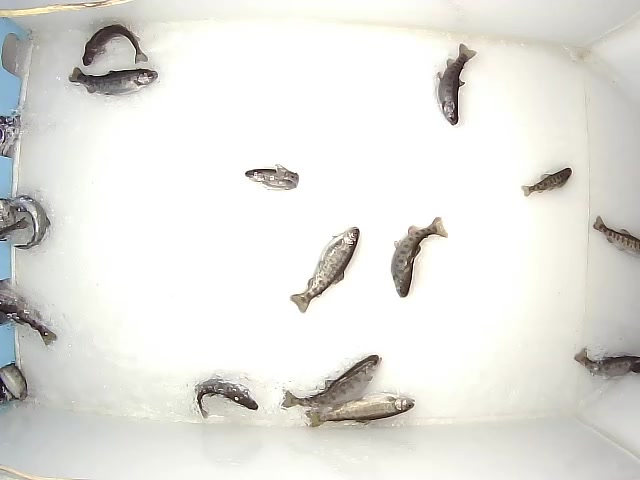fish: (288, 219, 367, 314), (280, 353, 380, 413), (388, 215, 459, 299), (299, 394, 418, 431), (433, 40, 478, 125), (77, 23, 152, 73), (67, 64, 161, 96), (8, 195, 53, 254), (193, 379, 260, 418), (519, 164, 574, 200), (245, 164, 305, 190), (258, 248, 259, 249)
